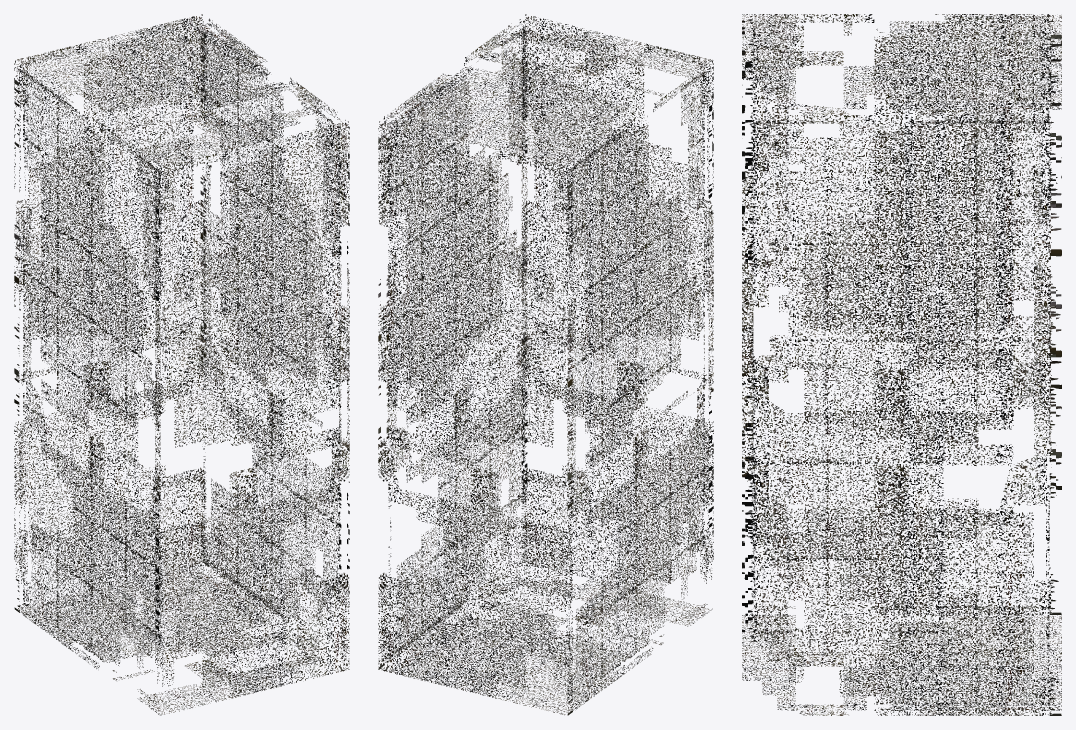
Rendered from SimpleRectangleOffice.fbx.
3 renders of one model, left to right at view 1: azimuth 30°, elevation 25°; view 2: azimuth 150°, elevation 25°; view 3: azimuth 270°, elevation 25°, orthographic. The views are drawn at different scales.
Visible parts, largest first — view 1: Cube.005; view 2: Cube.005; view 3: Cube.005.
Boxes of the visible parts, x1,y1,x2,y2 form: Cube.005: (14,14,349,715); Cube.005: (378,14,713,715); Cube.005: (742,14,1061,715).
Bounding box in the file's own units: 56.96 × 158 × 76.2.
1 material, 1 textured.
